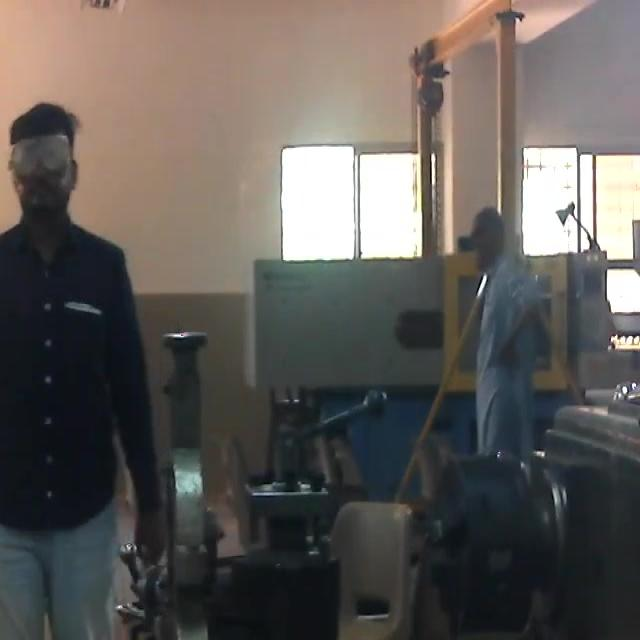googles: (8, 128, 74, 178)
